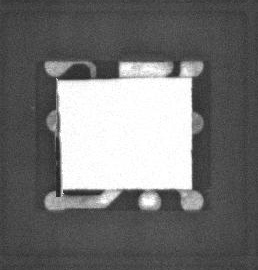DIE_BROKEN: (53, 127, 63, 199)
